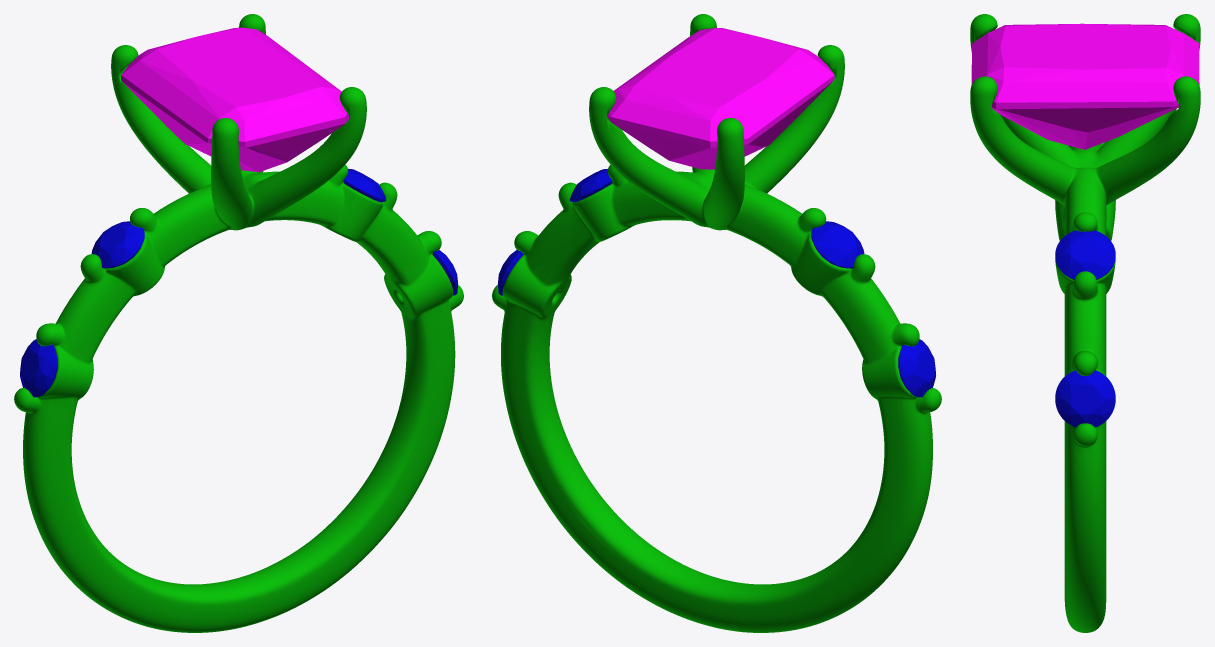
File: BE1D5693_RA_200ct_RENDER.glb
The picture shows the model from 3 angles, left to right: view 1: azimuth 30°, elevation 25°; view 2: azimuth 150°, elevation 25°; view 3: azimuth 270°, elevation 25°; orthographic projection.
Parts seen in each view (by area): view 1: Metal 01, CS_Diamond_Radiant, Diamond_Round_side, Diamond_Round_side.001, Diamond_Round_side.003; view 2: Metal 01, CS_Diamond_Radiant, Diamond_Round_side, Diamond_Round_side.001, Diamond_Round_side.003; view 3: Metal 01, CS_Diamond_Radiant, Diamond_Round_side.002, Diamond_Round_side.003.
Boxes of the visible parts, x1,y1,x2,y2 form: Metal 01: [14, 14, 463, 632]; CS_Diamond_Radiant: [121, 27, 348, 172]; Diamond_Round_side: [91, 221, 144, 268]; Diamond_Round_side.001: [20, 339, 57, 397]; Diamond_Round_side.003: [343, 168, 386, 202]; Metal 01: [492, 14, 941, 632]; CS_Diamond_Radiant: [607, 28, 834, 169]; Diamond_Round_side: [811, 221, 864, 268]; Diamond_Round_side.001: [898, 339, 935, 397]; Diamond_Round_side.003: [569, 169, 612, 202]; Metal 01: [970, 14, 1200, 632]; CS_Diamond_Radiant: [971, 23, 1199, 149]; Diamond_Round_side.002: [1055, 370, 1115, 427]; Diamond_Round_side.003: [1055, 230, 1115, 279].
Size of the model in its own units: 21.42 by 25.63 by 9.51.
